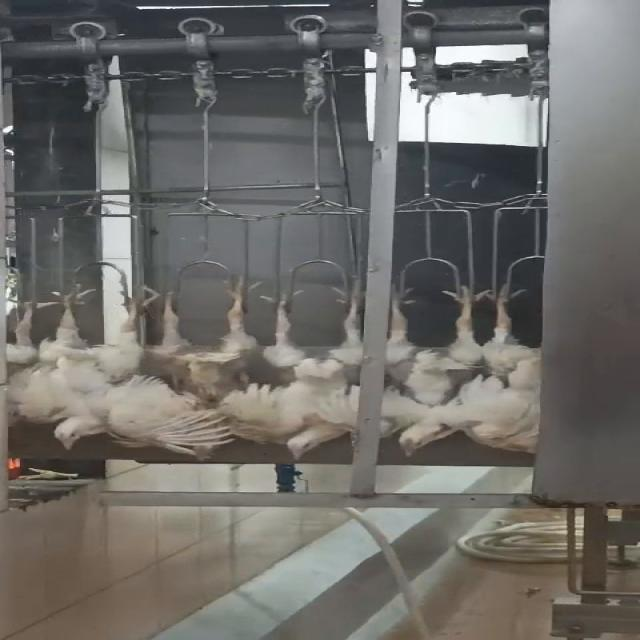chicken: (2, 282, 236, 464), (368, 285, 493, 462), (244, 276, 362, 462), (144, 276, 283, 406), (471, 276, 549, 458)
